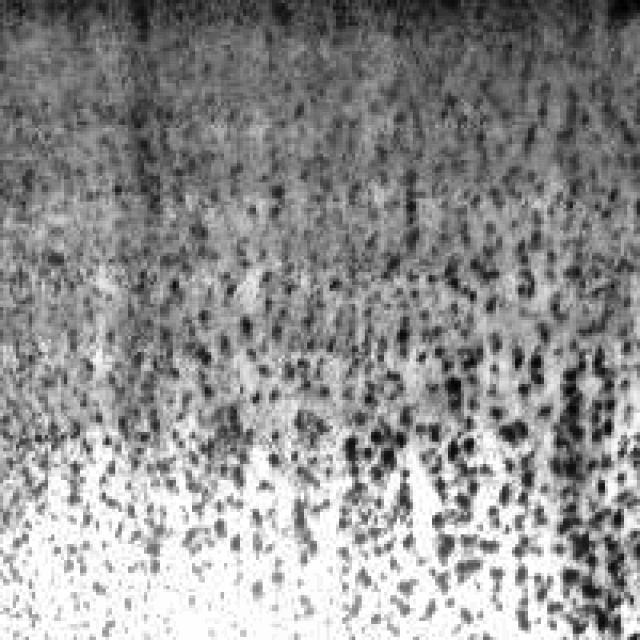Rolled_in_Scale: (32, 3, 624, 621)
